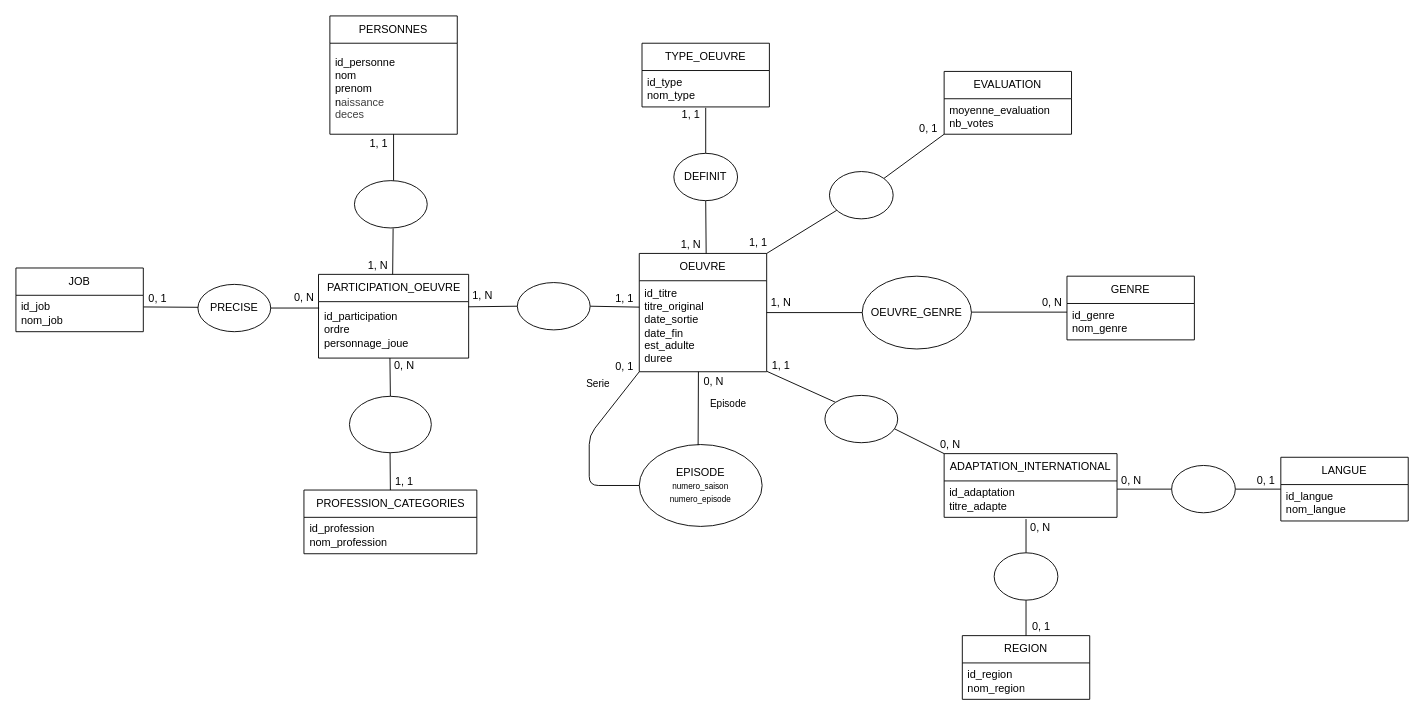
Image size: 1424x715. Some labels were removed from this diagram. Each missing label, with the centre of its shape:
CATEGORISE: point (390, 424)
CONCERNE: point (553, 306)
LOCALISE: point (1025, 576)
PARTICIPE: point (390, 204)
POSSEDE: point (861, 418)
RECOIT: point (861, 195)
TRADUIT: point (1203, 489)
